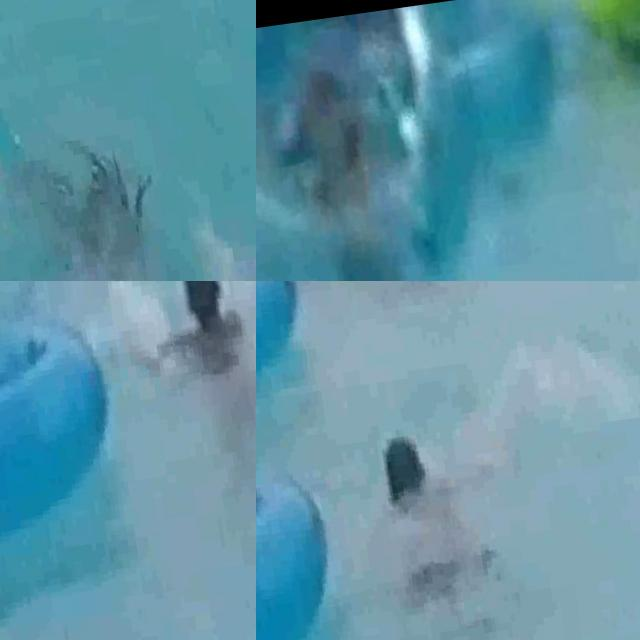drowning: (316, 371, 538, 625), (0, 113, 195, 281), (111, 281, 256, 474)
swimming: (266, 74, 414, 278)
